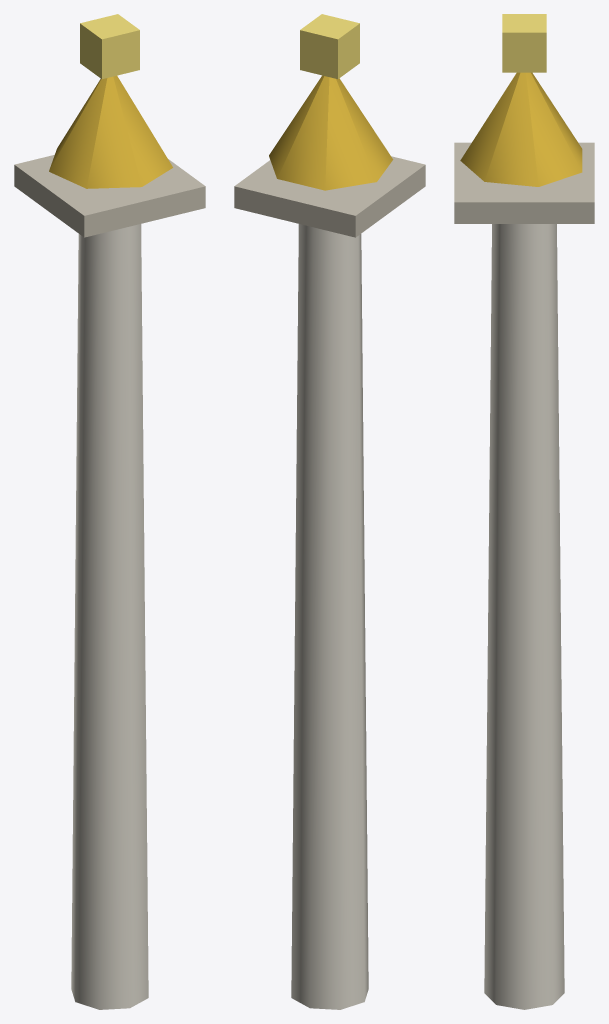
The model's file is harbour-beacon.glb.
The picture shows the model from 3 angles, left to right: view 1: azimuth 30°, elevation 25°; view 2: azimuth 150°, elevation 25°; view 3: azimuth 270°, elevation 25°; orthographic projection.
Visible parts, largest first — view 1: harbour-beacon; view 2: harbour-beacon; view 3: harbour-beacon.
Boxes of the visible parts, <box> form: harbour-beacon: <box>14,14,205,1009</box>; harbour-beacon: <box>234,14,425,1009</box>; harbour-beacon: <box>454,14,594,1009</box>.
Size of the model in its own units: 0.7 by 5.33 by 0.7.
